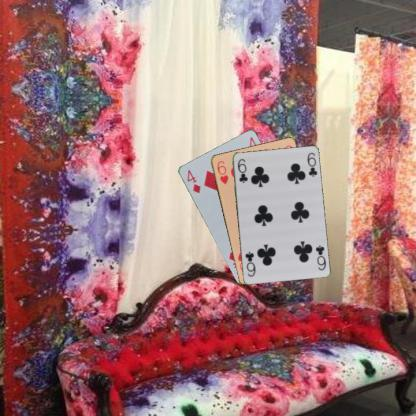4d: (184, 167, 202, 194)
6c: (235, 156, 249, 184), (313, 243, 327, 271)
6h: (214, 158, 230, 185)
